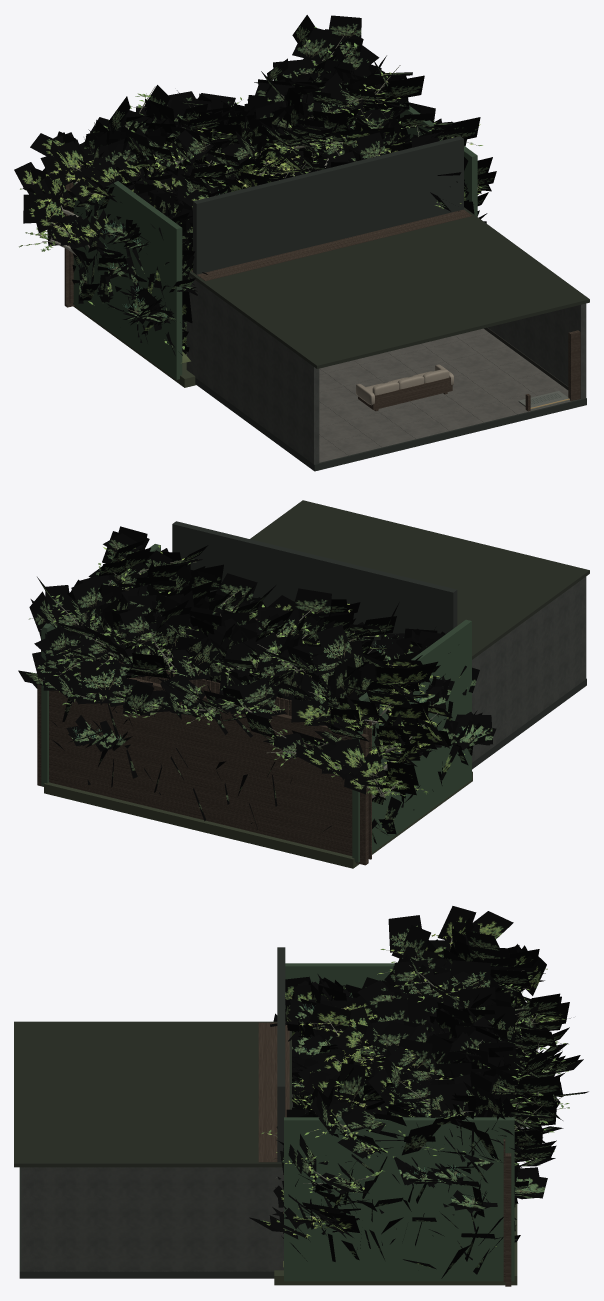
Rendered from house.glb.
3 views of the same model, one above another, from view 1: azimuth 30°, elevation 25°; view 2: azimuth 150°, elevation 25°; view 3: azimuth 270°, elevation 25° (orthographic). The views are drawn at different scales.
Visible parts, largest first — view 1: Cutaway Pigmented stone and moss, Painted botanical sprays • alpha cutout.012, Wet honed basalt.002, Cutaway Sumi plaster with mineral fleck, Pigmented stone and moss.006, Smoked cedar • long grain.006, Cutaway Smoked cedar • long grain, Foliage • two-sided folded blades.013, Weathered branch bark.013, Linen • fine basket weave.001; view 2: Painted botanical sprays • alpha cutout.012, Cutaway Pigmented stone and moss, Smoked cedar • long grain.006, Pigmented stone and moss.006, Cutaway Sumi plaster with mineral fleck, Foliage • two-sided folded blades.013, Weathered branch bark.013; view 3: Painted botanical sprays • alpha cutout.012, Cutaway Pigmented stone and moss, Pigmented stone and moss.006, Cutaway Sumi plaster with mineral fleck, Cutaway Smoked cedar • long grain, Foliage • two-sided folded blades.013, Smoked cedar • long grain.006, Weathered branch bark.013.
Boxes of the visible parts, <box> form: Cutaway Pigmented stone and moss: <box>189,136,589,368</box>; Painted botanical sprays • alpha cutout.012: <box>14,15,496,355</box>; Wet honed basalt.002: <box>319,328,580,462</box>; Cutaway Sumi plaster with mineral fleck: <box>186,275,586,464</box>; Pigmented stone and moss.006: <box>73,105,586,471</box>; Smoked cedar • long grain.006: <box>64,182,580,411</box>; Cutaway Smoked cedar • long grain: <box>191,209,472,281</box>; Foliage • two-sided folded blades.013: <box>19,26,482,349</box>; Weathered branch bark.013: <box>20,34,478,339</box>; Linen • fine basket weave.001: <box>356,364,453,405</box>; Painted botanical sprays • alpha cutout.012: <box>18,526,496,843</box>; Cutaway Pigmented stone and moss: <box>172,500,589,659</box>; Smoked cedar • long grain.006: <box>37,650,371,865</box>; Pigmented stone and moss.006: <box>41,544,586,868</box>; Cutaway Sumi plaster with mineral fleck: <box>472,576,586,762</box>; Foliage • two-sided folded blades.013: <box>29,545,480,829</box>; Weathered branch bark.013: <box>28,539,477,822</box>; Painted botanical sprays • alpha cutout.012: <box>249,906,588,1278</box>; Cutaway Pigmented stone and moss: <box>14,947,291,1167</box>; Pigmented stone and moss.006: <box>19,963,517,1285</box>; Cutaway Sumi plaster with mineral fleck: <box>21,1094,292,1271</box>; Cutaway Smoked cedar • long grain: <box>258,1022,289,1162</box>; Foliage • two-sided folded blades.013: <box>261,934,569,1246</box>; Smoked cedar • long grain.006: <box>503,1138,511,1286</box>; Weathered branch bark.013: <box>266,935,566,1245</box>.
Size of the model in its own units: 15.58 by 7.98 by 17.95.
12 materials, 6 textured.
